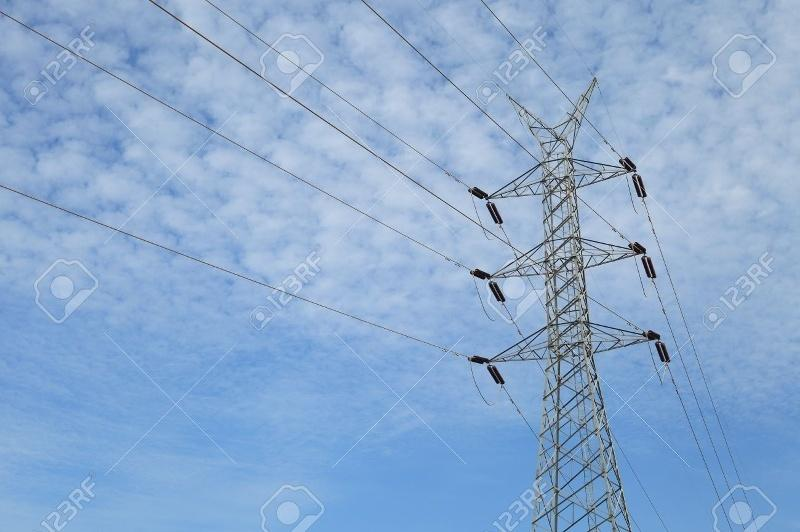power_tower: (456, 77, 668, 527)
